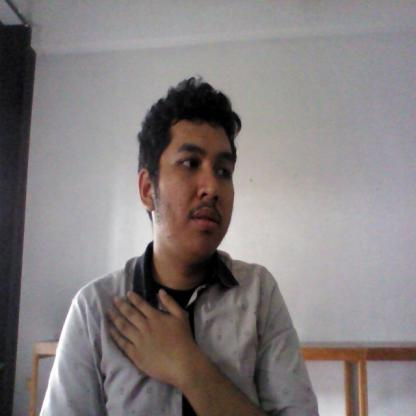Saya: (103, 285, 206, 395)
